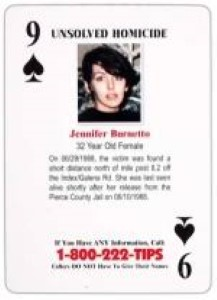NineOfSpades: (2, 1, 213, 294)
